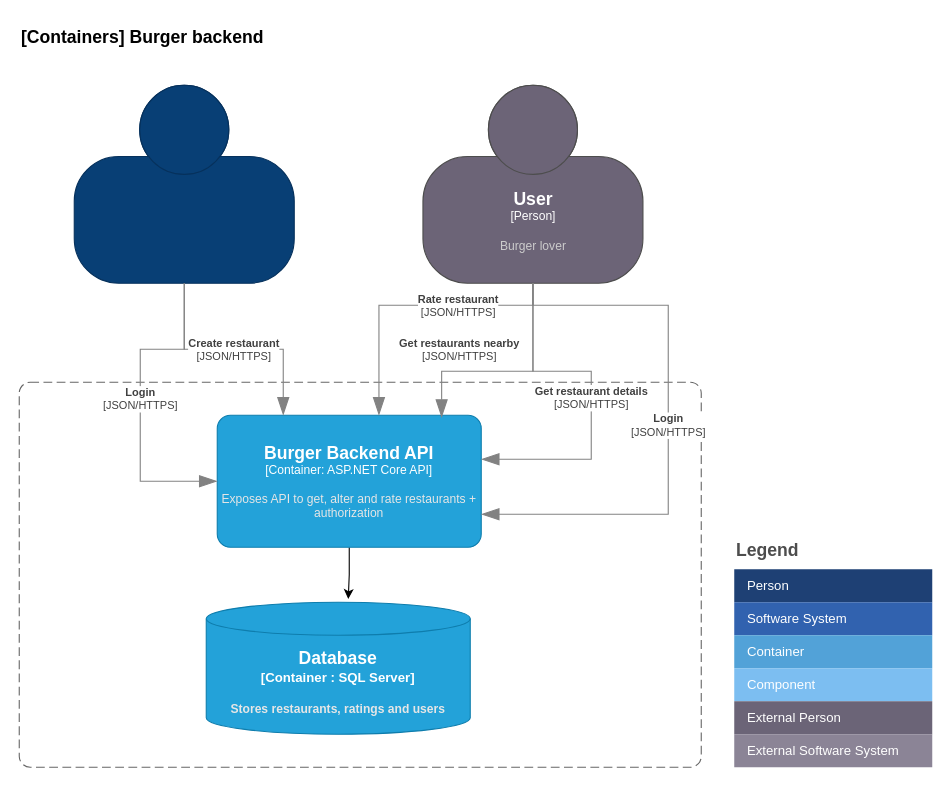
The diagram is 952 pixels wide and 787 high, and some of its shapes have lost their labels. Here are the shapes that lost their labels. From the top down, the box of each, then its label:
(73, 84, 294, 283): Administrator [Person] System admin
(18, 381, 701, 767): Burger backend [Software System]
